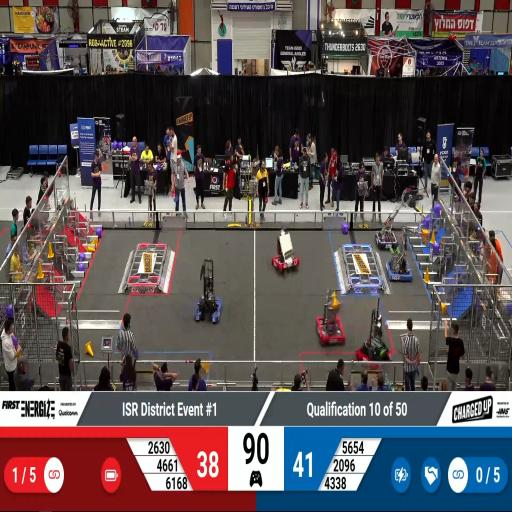robot: (357, 322, 392, 370), (193, 281, 223, 325), (315, 308, 347, 348), (271, 245, 301, 276), (387, 249, 414, 280), (375, 218, 399, 250)
